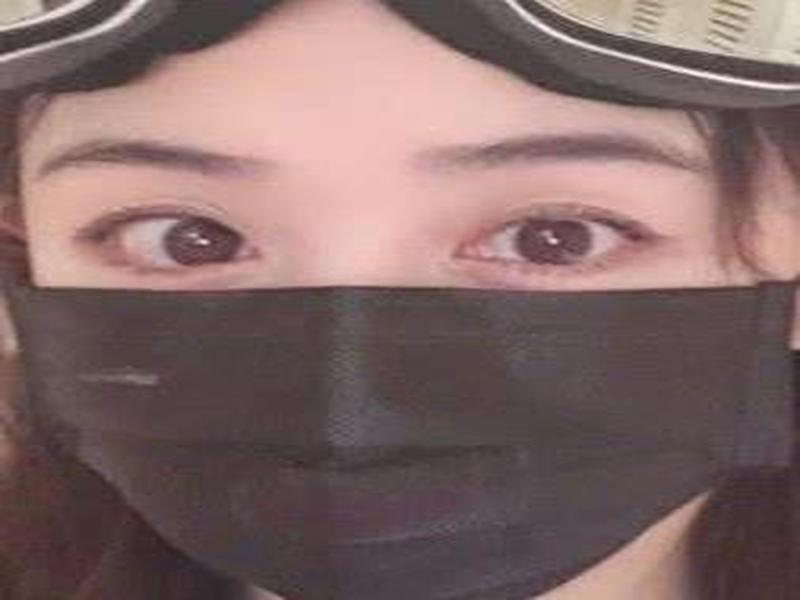with_mask: (11, 109, 791, 600)
